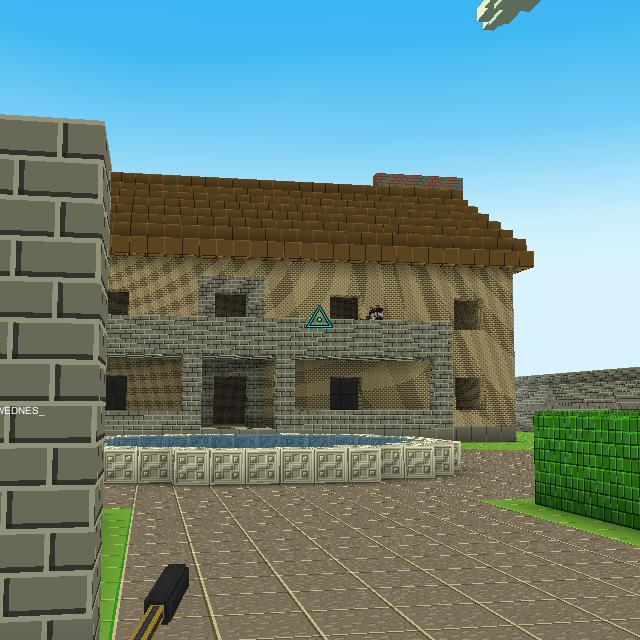enemy: (364, 304, 385, 321)
